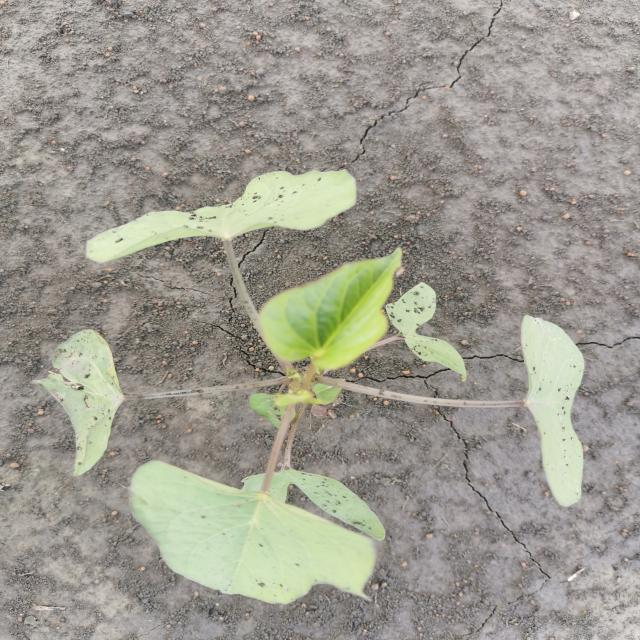MorningGlory: (28, 162, 592, 608)
